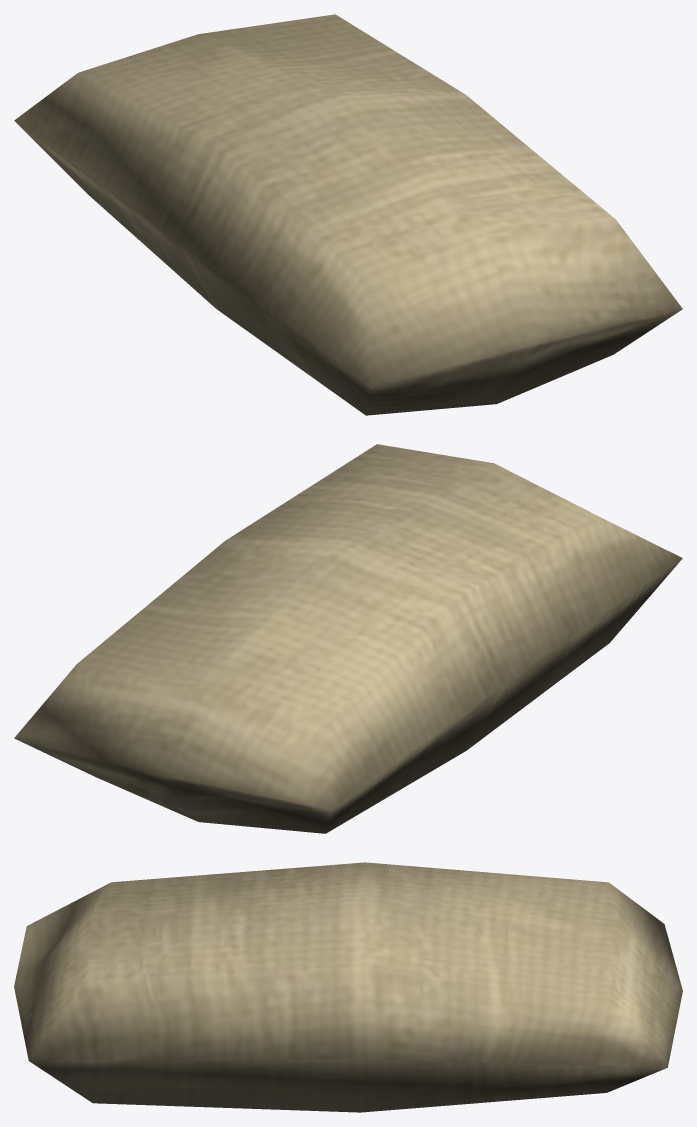
The model's file is sandbag.glb.
3 views of the same model, one above another, from view 1: azimuth 30°, elevation 25°; view 2: azimuth 150°, elevation 25°; view 3: azimuth 270°, elevation 25° (orthographic). The views are drawn at different scales.
Parts seen in each view (by area): view 1: sandbag_model; view 2: sandbag_model; view 3: sandbag_model.
Boxes of the visible parts, x1,y1,x2,y2 form: sandbag_model: [14, 14, 682, 415]; sandbag_model: [14, 444, 682, 833]; sandbag_model: [14, 862, 682, 1112].
Bounding box in the file's own units: 0.258 × 0.1497 × 0.5.
1 material, 1 textured.
